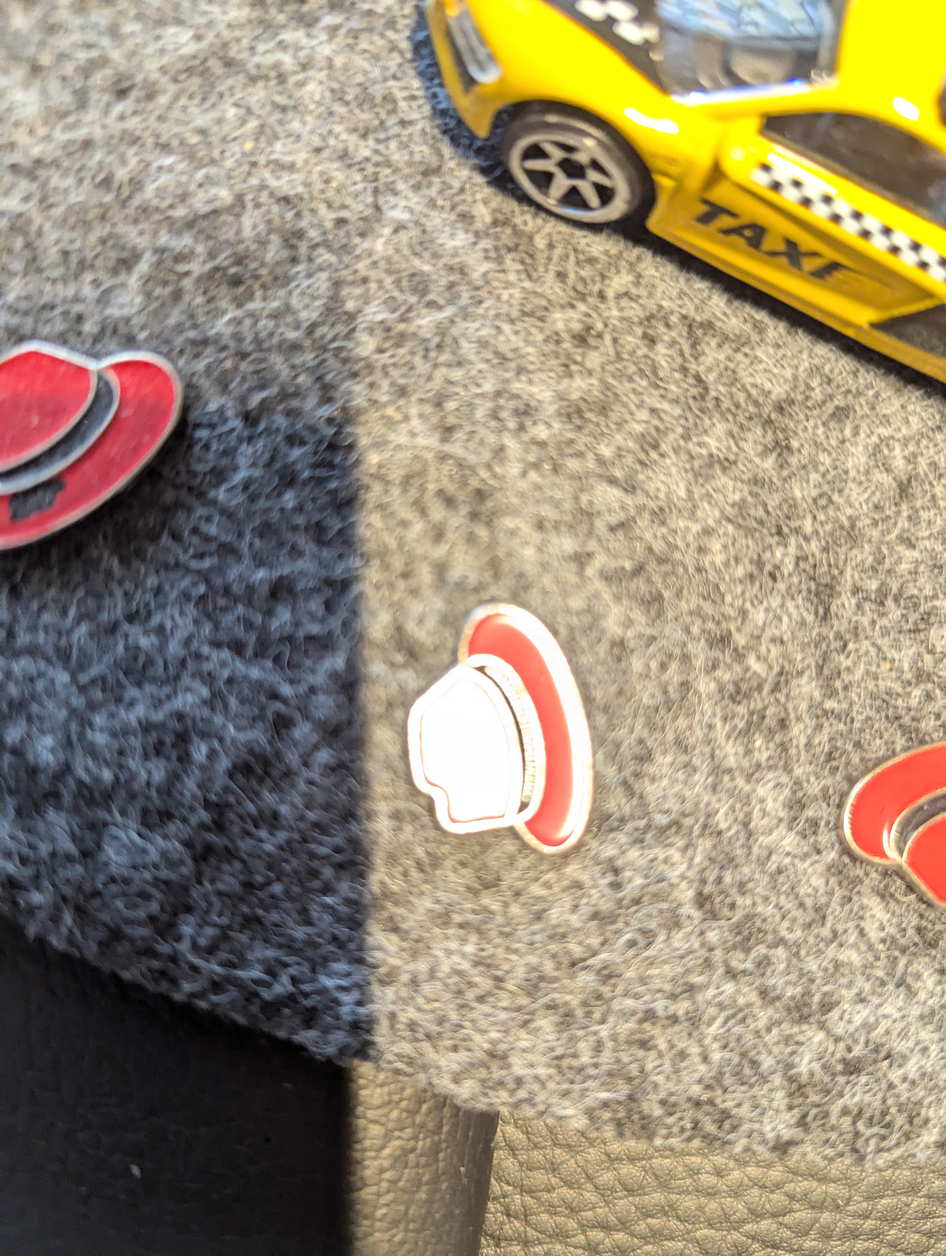Car: (395, 0, 946, 354)
Red-Hat: (374, 558, 632, 900), (0, 324, 201, 577), (813, 689, 946, 957)
Scratch: (0, 452, 76, 534)
